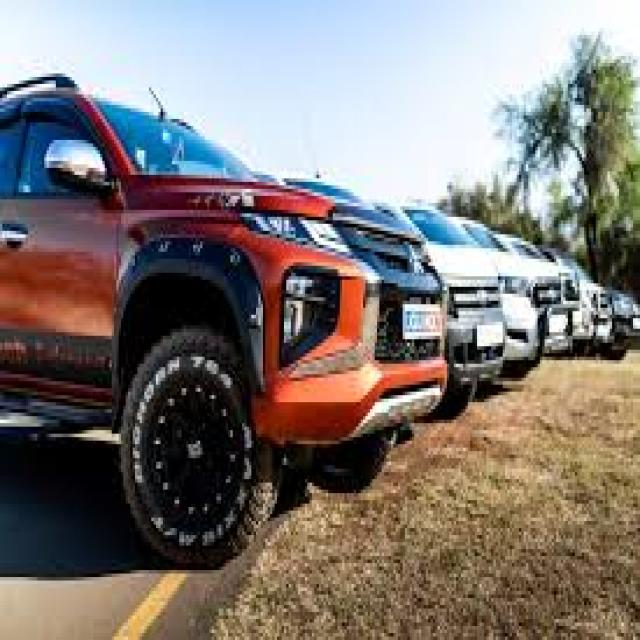Pickup Trucks: (2, 77, 447, 570)
